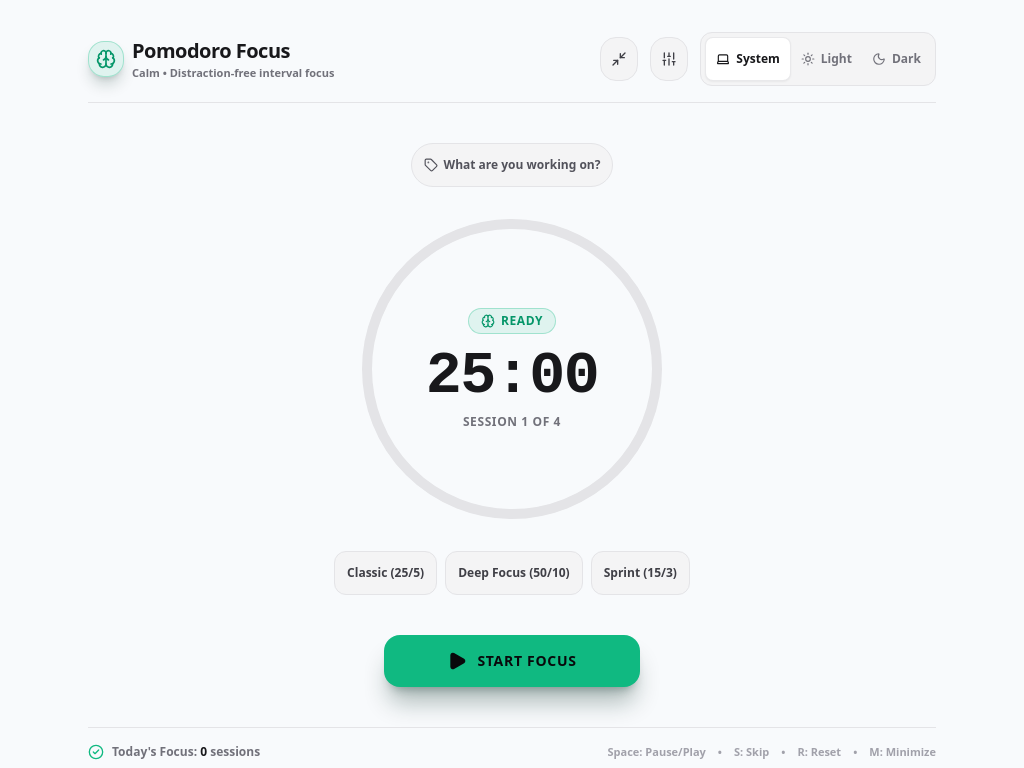
Test: Focus State & UI Integration Tests (Module 7) › 24. focus label persists through minimize and editing
# Click label to edit
Click the button with aria-label "set what you are working on".
click(512, 165)  # box [410, 143, 613, 187]
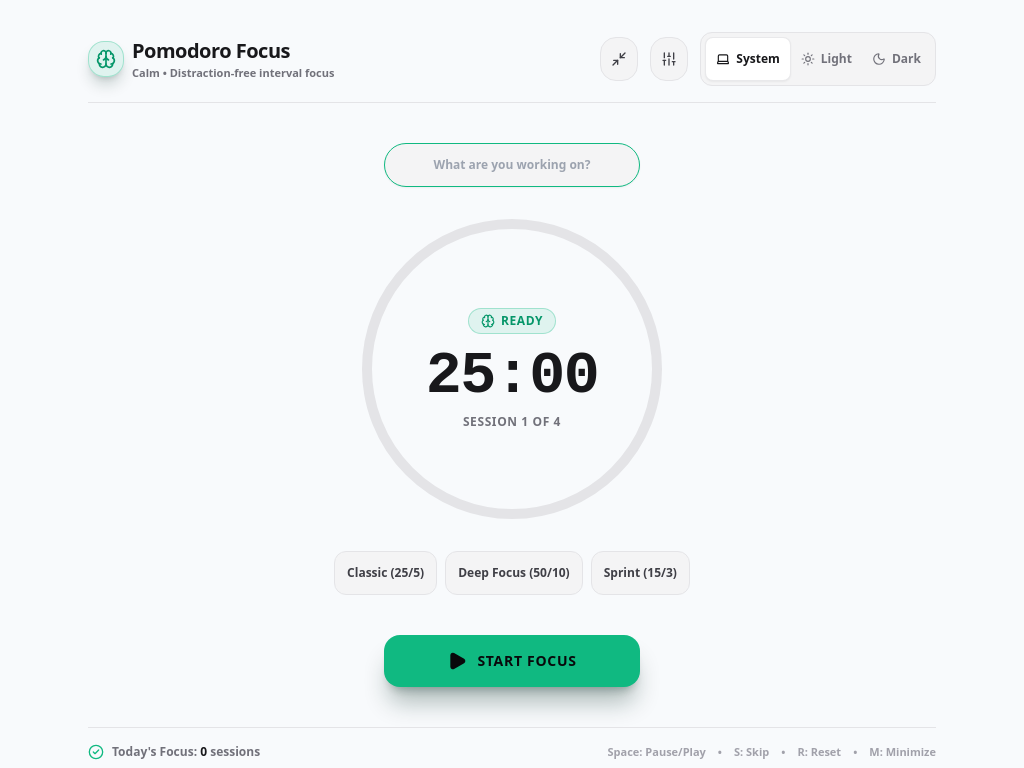
Type "TypeScript Refactoring" into the field with placeholder "What are you working on?".
click(512, 165); type("TypeScript Refactoring")  # box [384, 143, 640, 187]
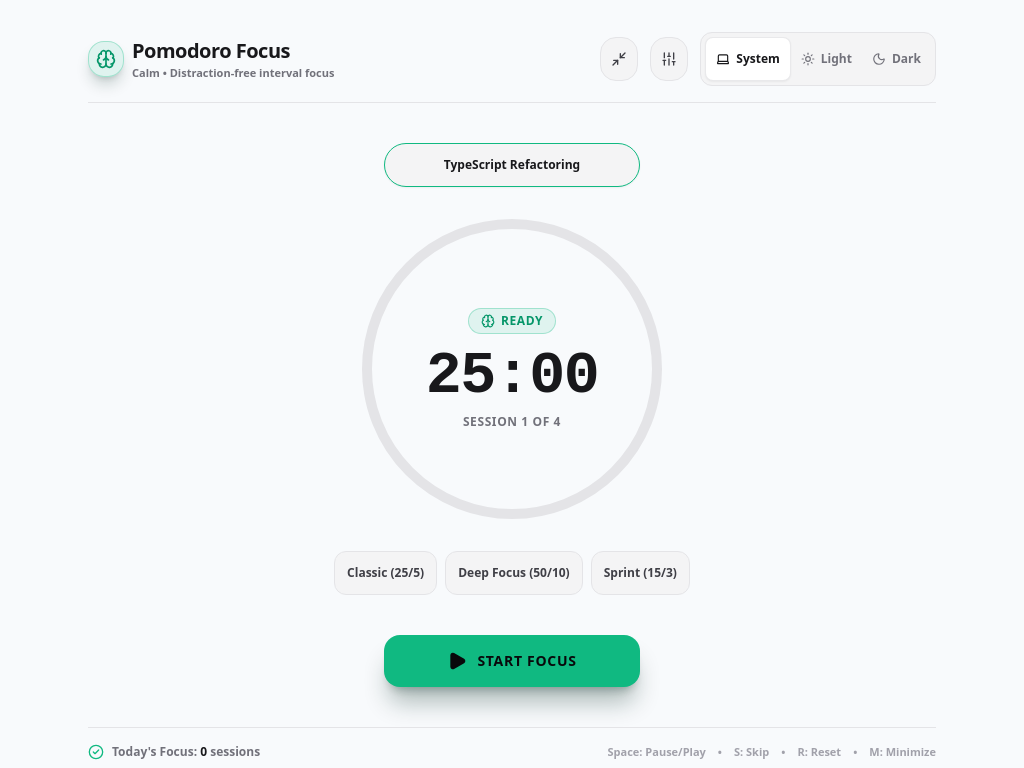
Leave the field with placeholder "What are you working on?", box [384, 143, 640, 187]
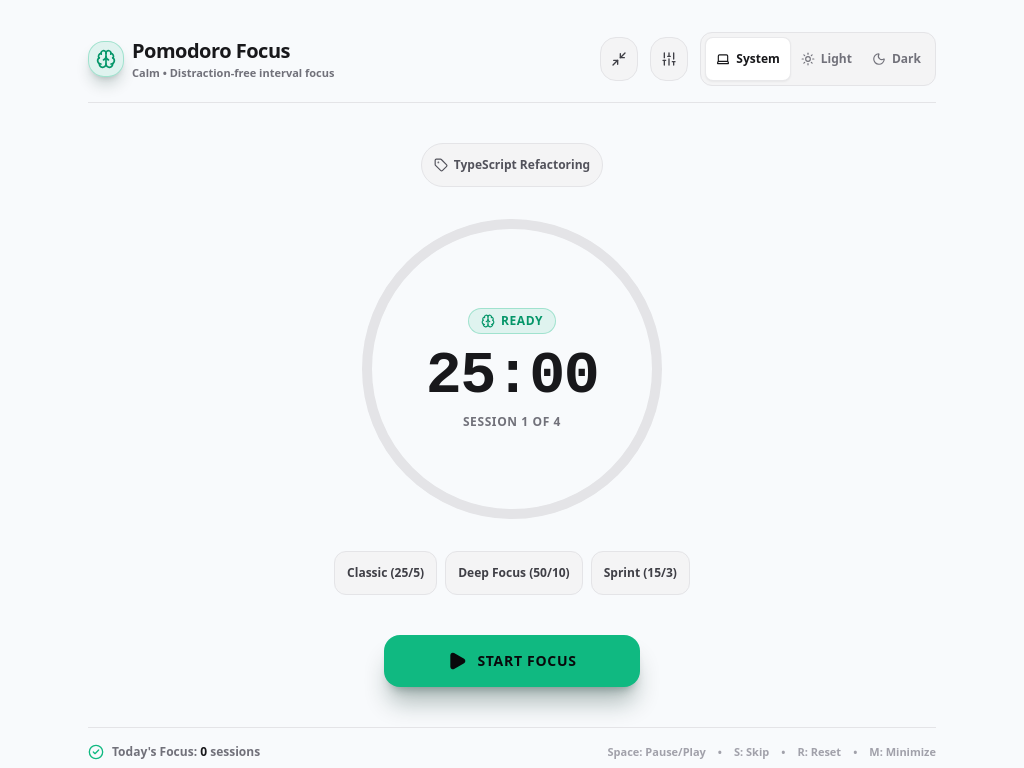
Expected: the text "TypeScript Refactoring" is shown, [454, 157, 590, 173]
